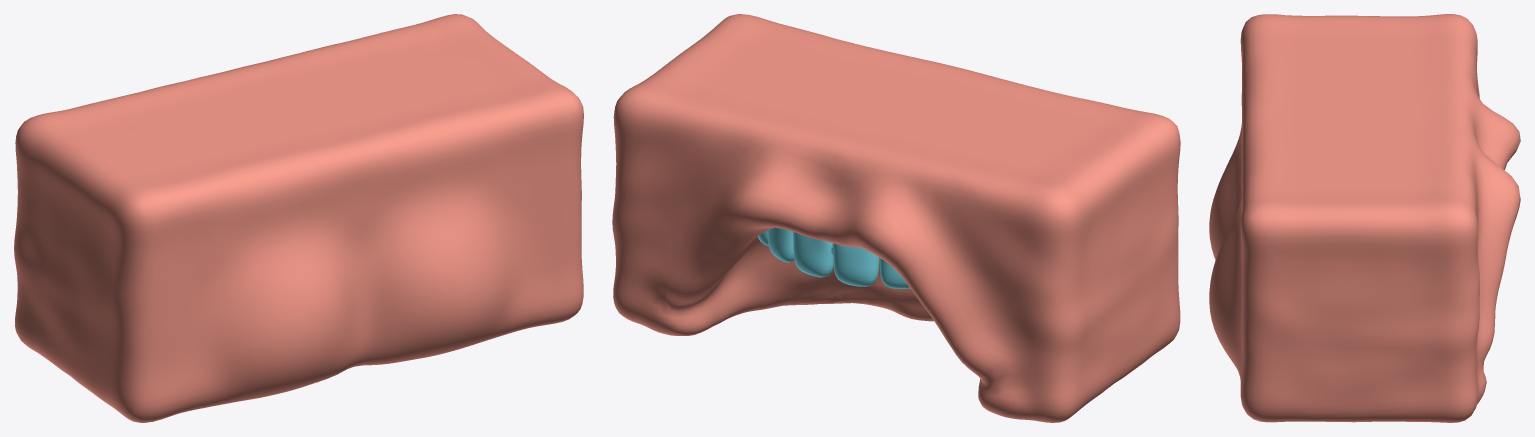
File: Mouth.fbx
3 views of the same model, side by side, from view 1: azimuth 30°, elevation 25°; view 2: azimuth 150°, elevation 25°; view 3: azimuth 270°, elevation 25° (orthographic). The views are drawn at different scales.
Visible parts, largest first — view 1: PM3D_Cube3D1; view 2: PM3D_Cube3D1; view 3: PM3D_Cube3D1.
Part boxes in pixels (bbox=[...]): PM3D_Cube3D1: bbox=[14, 14, 583, 422]; PM3D_Cube3D1: bbox=[612, 14, 1180, 422]; PM3D_Cube3D1: bbox=[1209, 14, 1520, 422].
Bounding box in the file's own units: 153 × 73.06 × 95.39.
